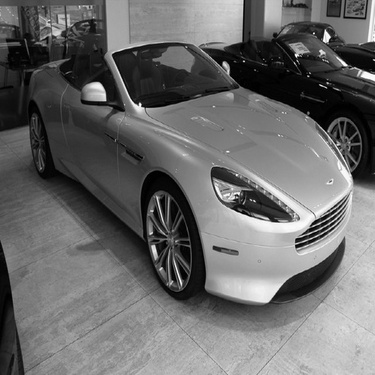car: (23, 37, 356, 312), (189, 29, 372, 182), (273, 16, 349, 48), (2, 11, 36, 81), (57, 11, 107, 56), (330, 38, 372, 77)
